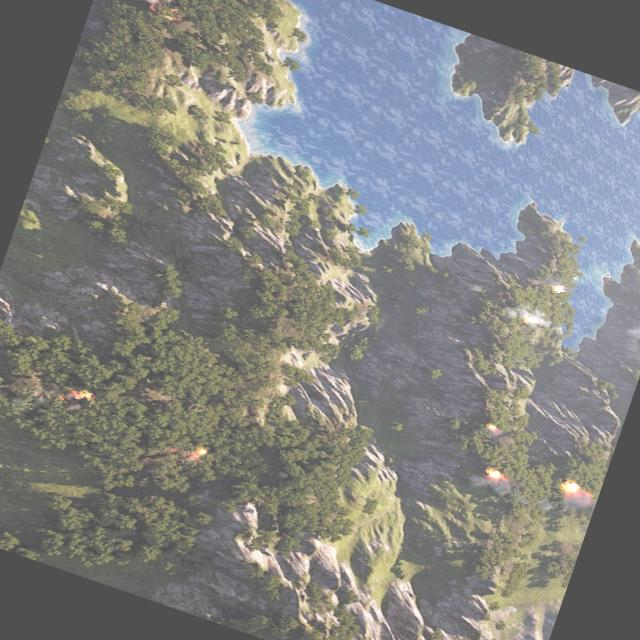fire: (172, 436, 214, 469), (59, 382, 96, 411), (558, 476, 581, 496), (483, 468, 505, 483), (548, 283, 566, 295)
smoke: (498, 300, 558, 336), (552, 481, 598, 520)
